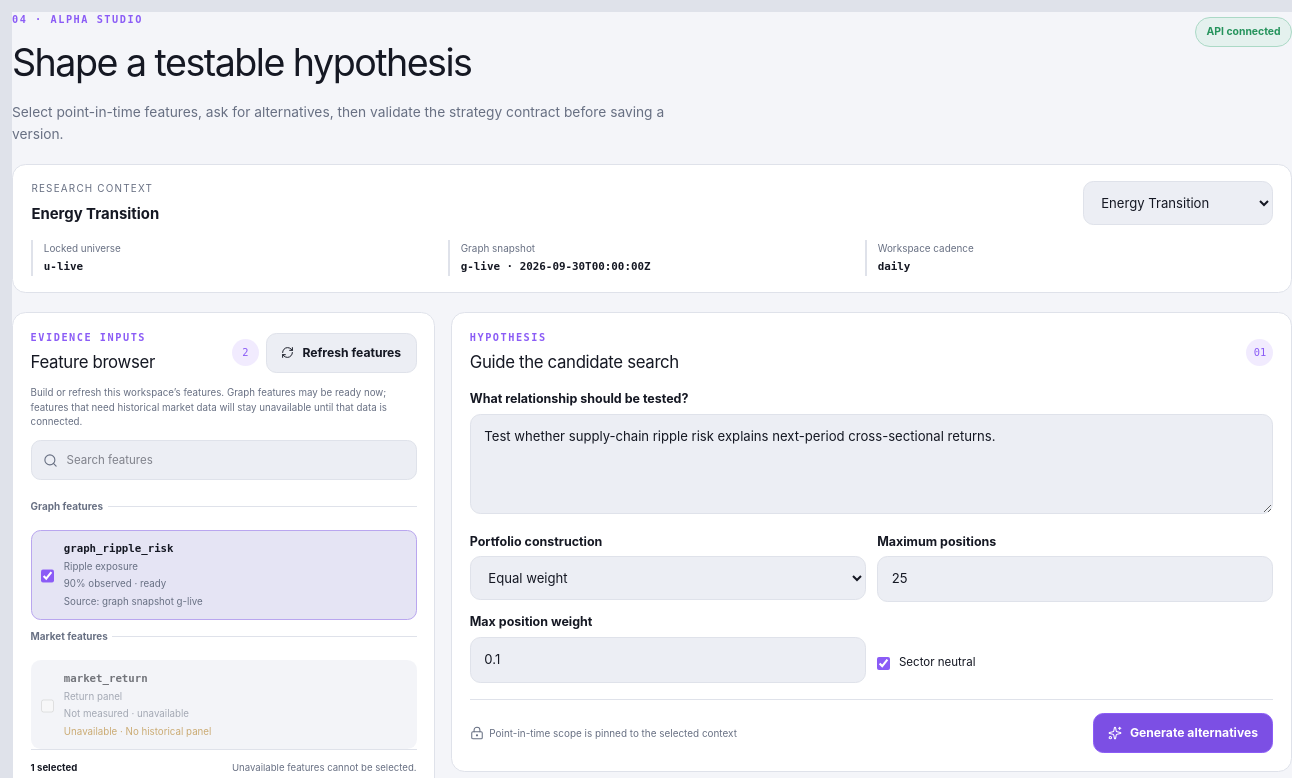
surfaces a failed refresh job without reloading the feature catalog
Click the button "Refresh features". click: (341, 353)
box: [266,333,417,373]
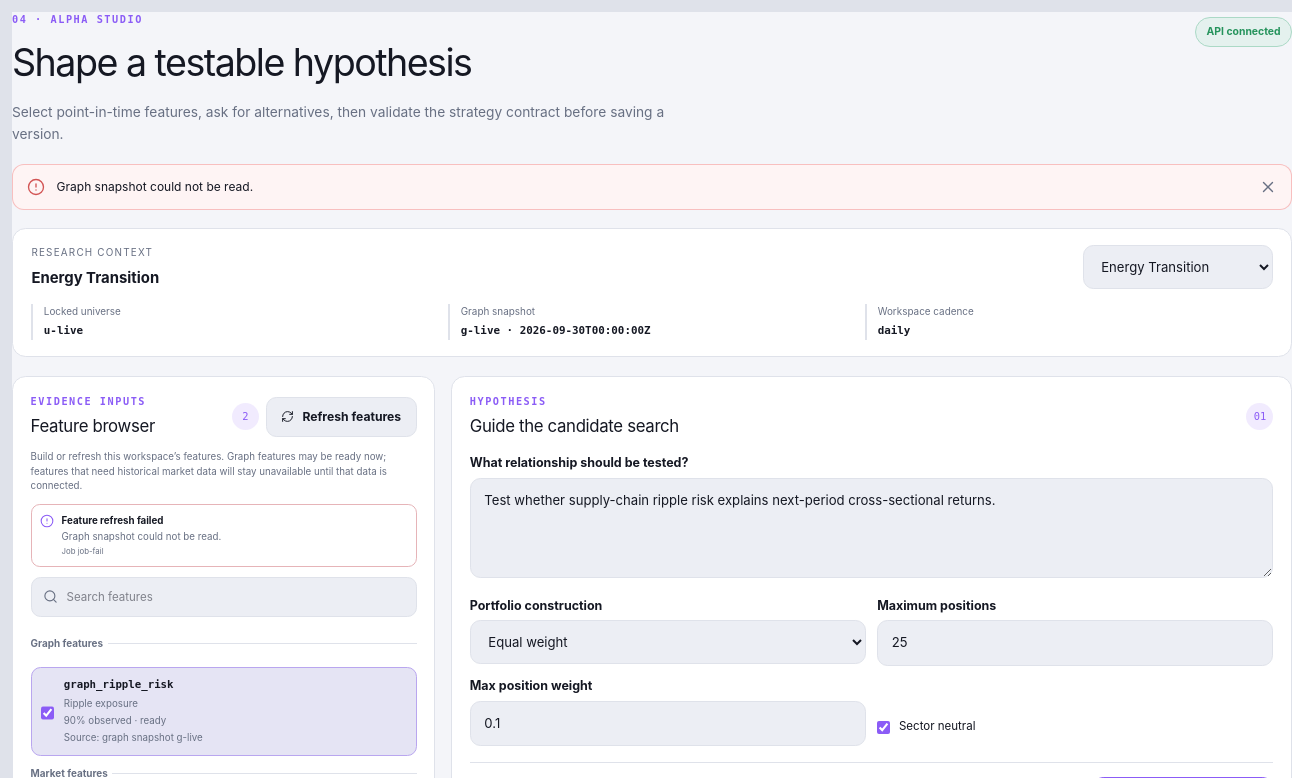
Expected: the text "Feature refresh failed" is shown, [62,515,164,526]
Expected: the message "Graph snapshot could not be read." is shown, [12,164,1291,210]
